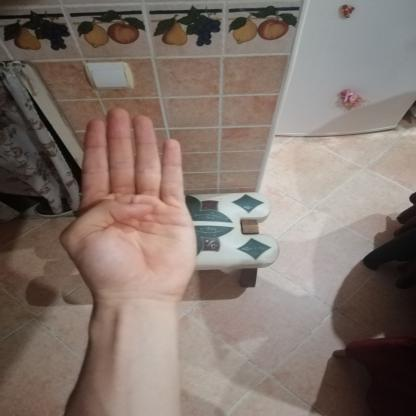KAAF: (44, 97, 212, 317)
